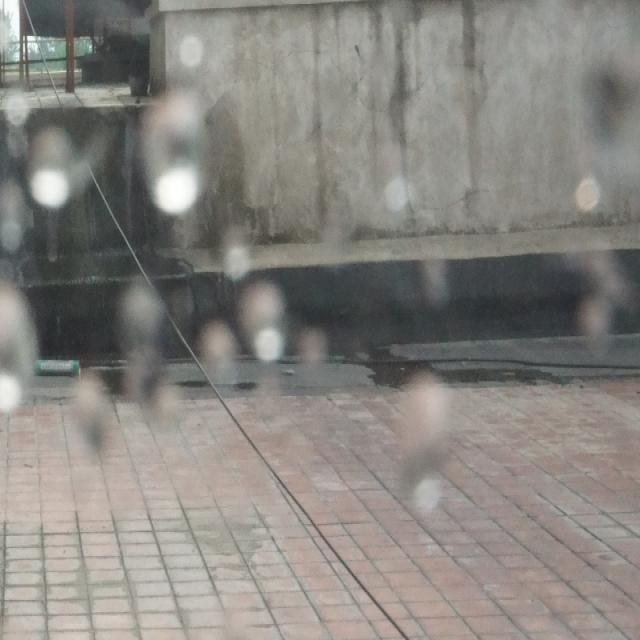raindrop: (140, 81, 212, 218), (0, 276, 46, 417), (383, 368, 453, 457), (28, 126, 81, 217), (394, 444, 454, 524), (60, 372, 112, 453), (238, 279, 288, 362), (119, 282, 174, 354), (192, 319, 240, 397), (374, 154, 417, 238), (121, 340, 161, 412), (0, 178, 30, 255), (574, 294, 610, 354), (222, 224, 251, 285), (250, 366, 280, 424), (425, 252, 453, 308), (579, 168, 603, 218), (300, 330, 324, 370), (3, 88, 30, 121), (182, 32, 202, 70)
